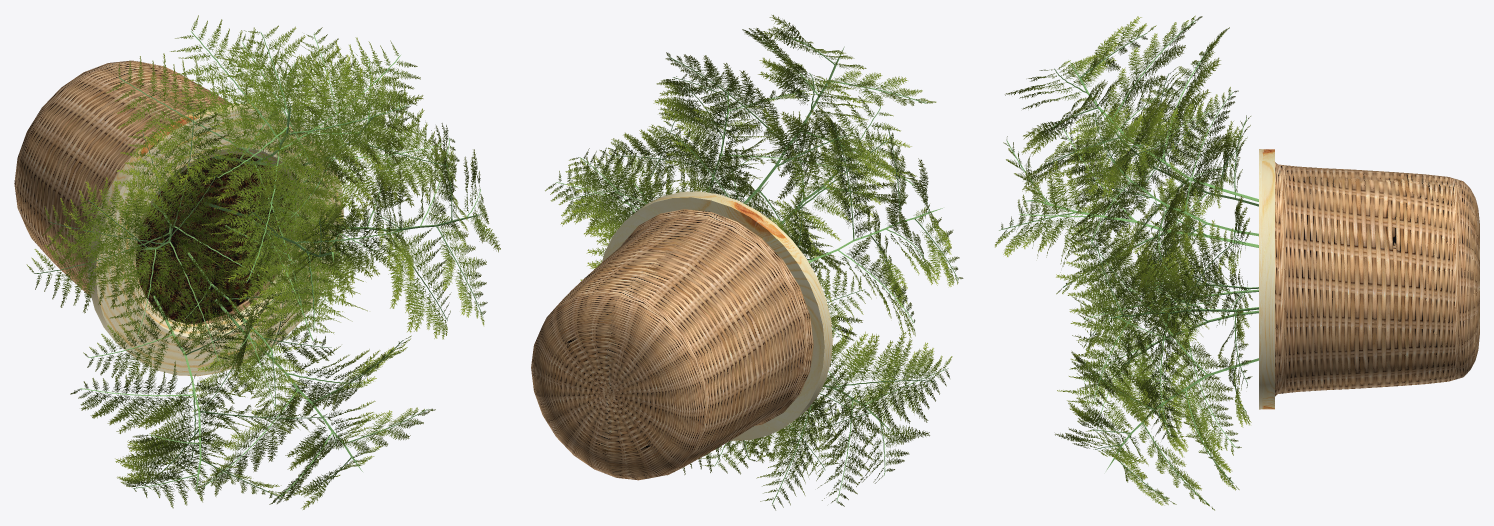
3 renders of one model, left to right at view 1: azimuth 30°, elevation 25°; view 2: azimuth 150°, elevation 25°; view 3: azimuth 270°, elevation 25°, orthographic. The views are drawn at different scales.
Visible parts, largest first — view 1: HP02_3; view 2: HP02_3; view 3: HP02_3.
Part boxes in pixels (x1,y1,x2,y2): HP02_3: [14, 15, 500, 509]; HP02_3: [531, 15, 963, 510]; HP02_3: [995, 15, 1479, 510].
Size of the model in its own units: 53.93 by 59.46 by 59.1.
Materials: 5 (5 with a texture image).
